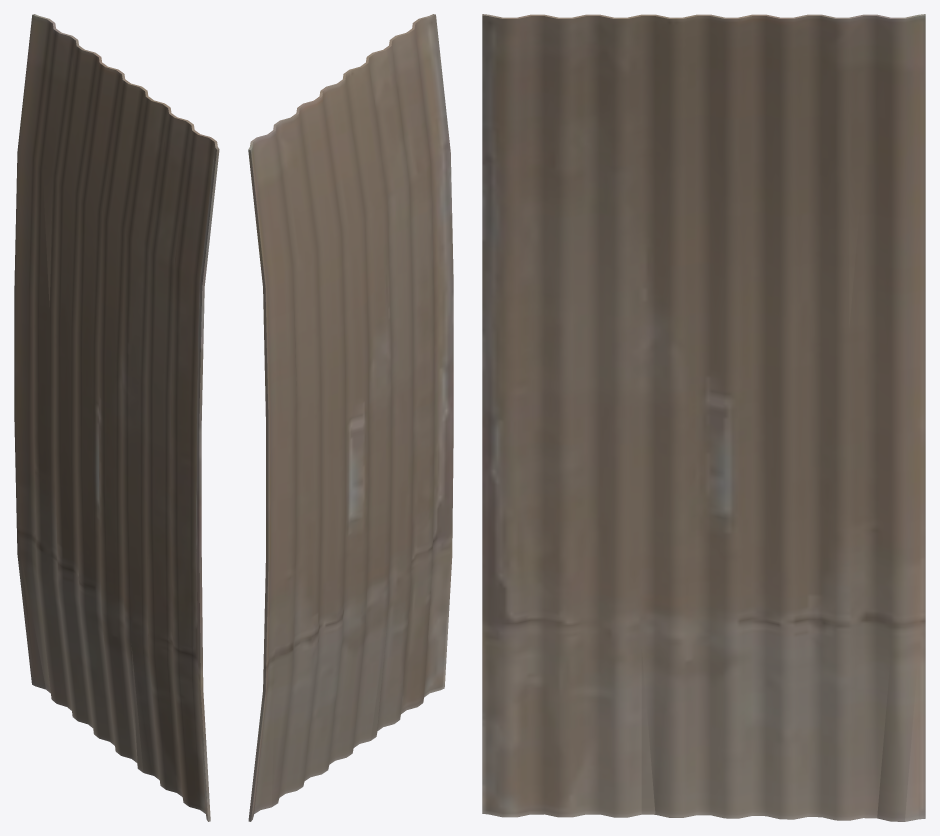
The picture shows the model from 3 angles, left to right: view 1: azimuth 30°, elevation 25°; view 2: azimuth 150°, elevation 25°; view 3: azimuth 270°, elevation 25°; orthographic projection. The views are drawn at different scales.
Parts seen in each view (by area): view 1: body0_model0_lod0_mesh0; view 2: body0_model0_lod0_mesh0; view 3: body0_model0_lod0_mesh0.
Boxes of the visible parts, x1=… form: body0_model0_lod0_mesh0: x1=14, y1=14, x2=219, y2=821; body0_model0_lod0_mesh0: x1=248, y1=14, x2=453, y2=821; body0_model0_lod0_mesh0: x1=482, y1=14, x2=925, y2=821.
Bounding box in the file's own units: 6.2 × 128 × 64.01.
Materials: 1 (1 with a texture image).
